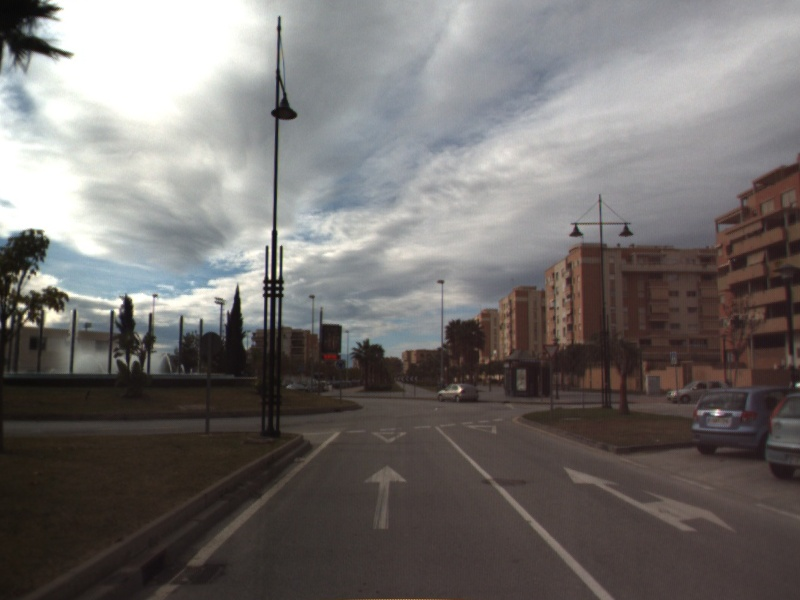STRAIGHT: (362, 463, 409, 531)
STRAIGHT_RIGHT: (562, 465, 739, 535)
